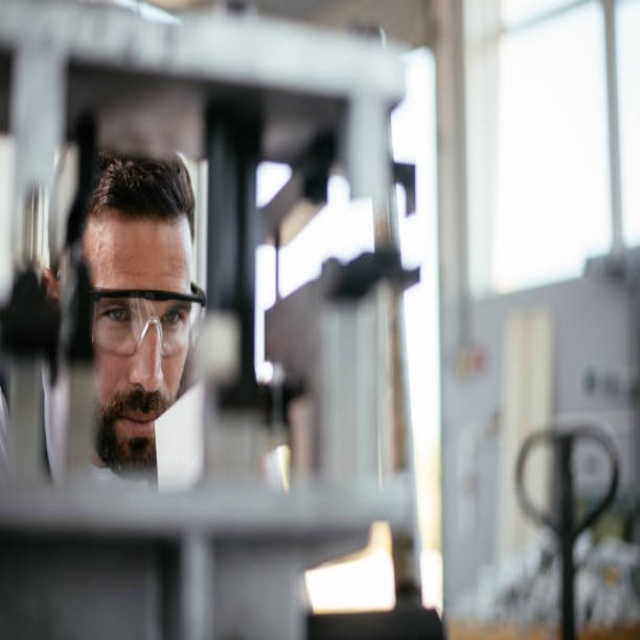Gafas: (86, 288, 207, 357)
Sin_mascara: (105, 384, 157, 464)
